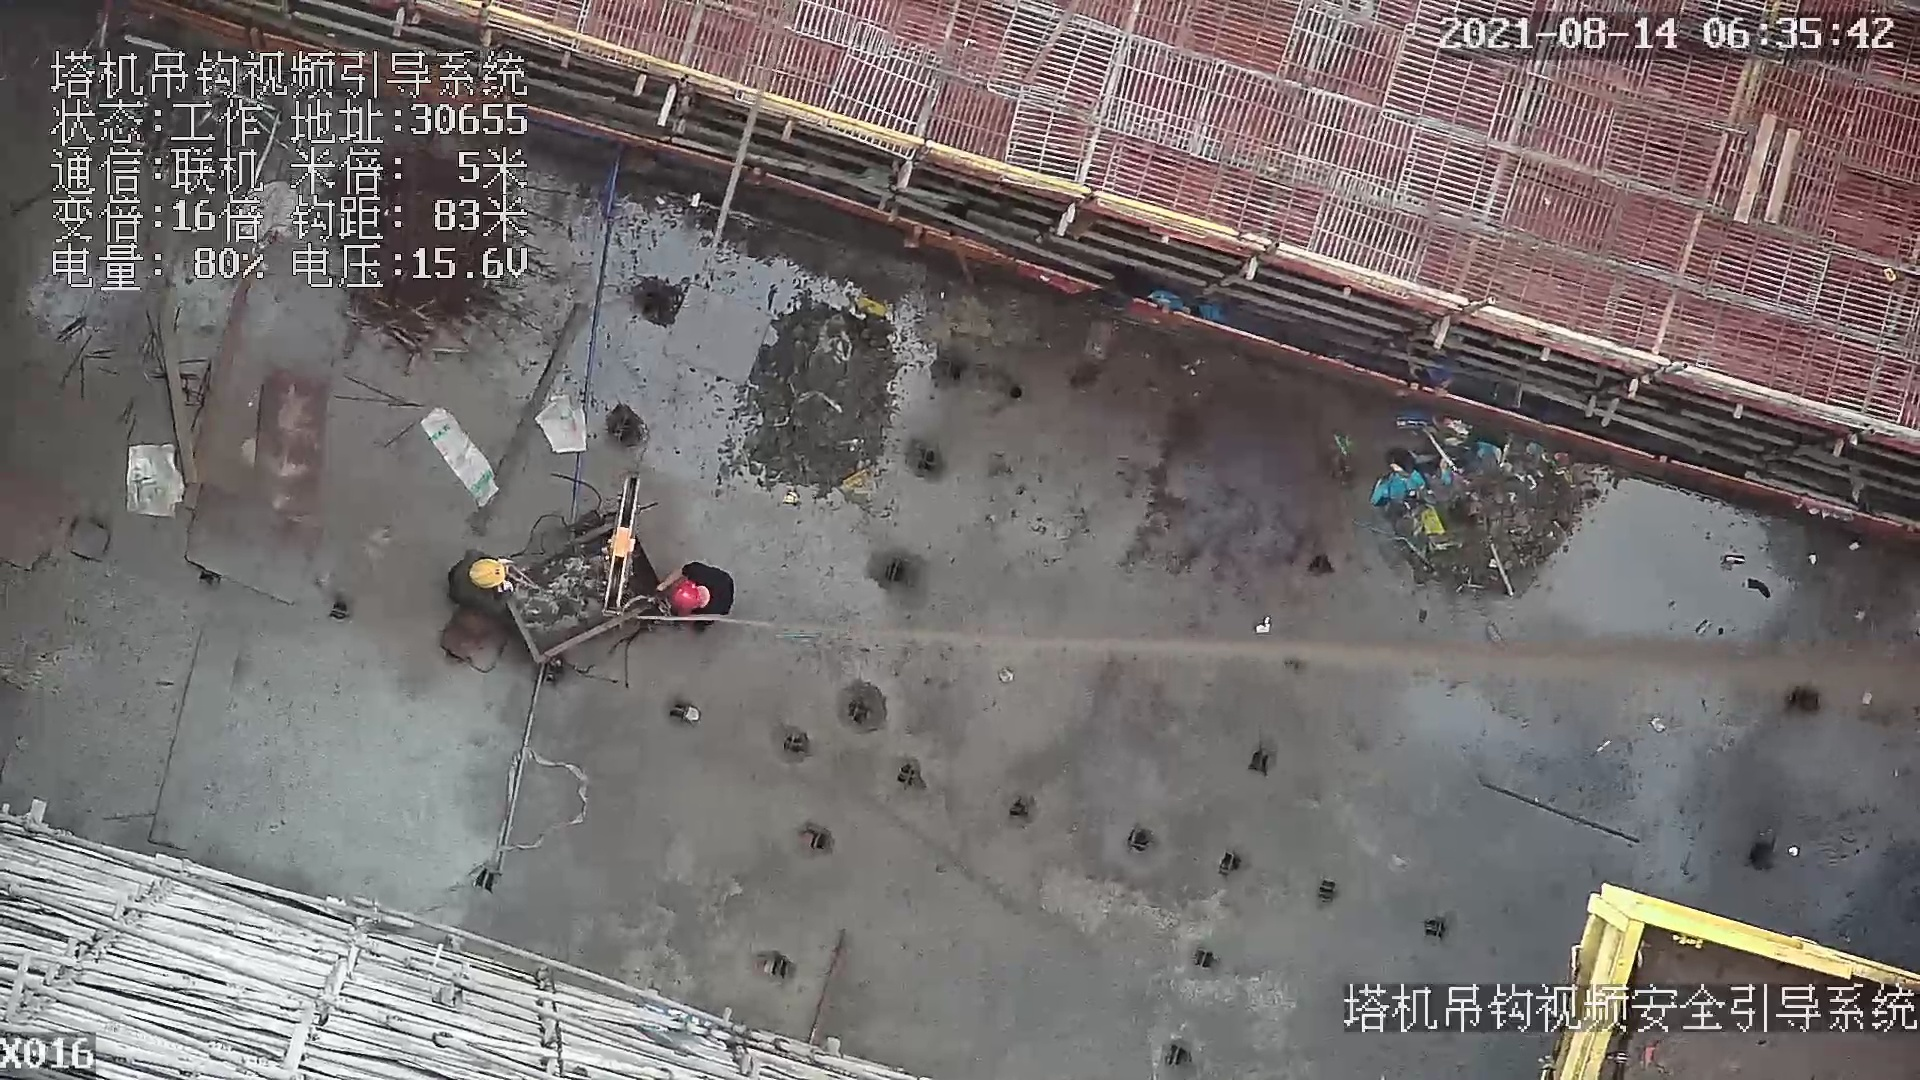helmet: (459, 553, 514, 596), (670, 577, 710, 617)
hook: (597, 477, 644, 615)
hopper: (509, 519, 674, 687)
person: (651, 549, 744, 633), (435, 541, 526, 608)
